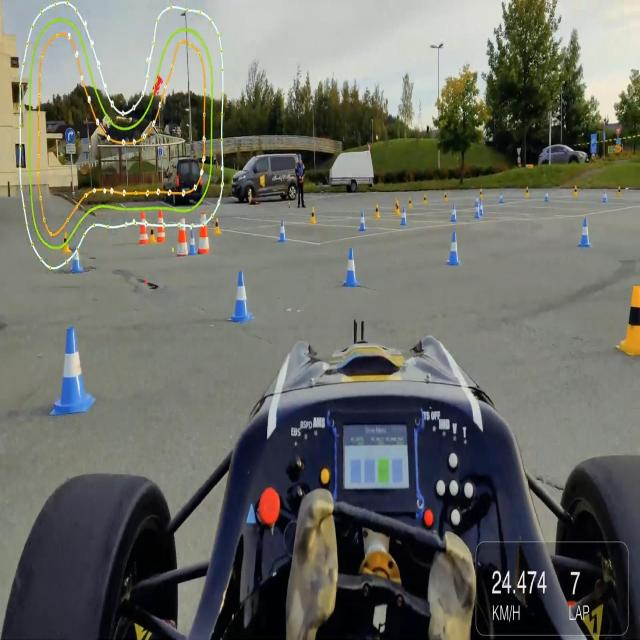blue_cone: (56, 320, 90, 424), (231, 265, 252, 329), (340, 244, 361, 286), (446, 228, 463, 270), (577, 213, 594, 248)
yellow_cone: (621, 276, 640, 360)
